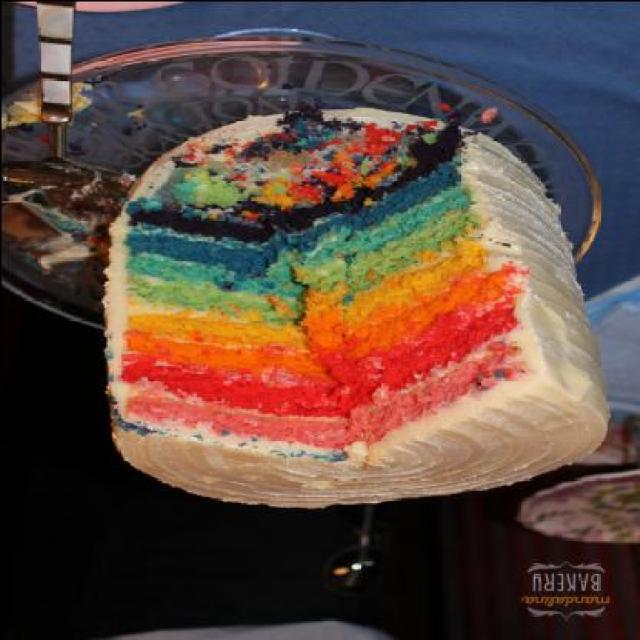Cake: (103, 116, 605, 510)
